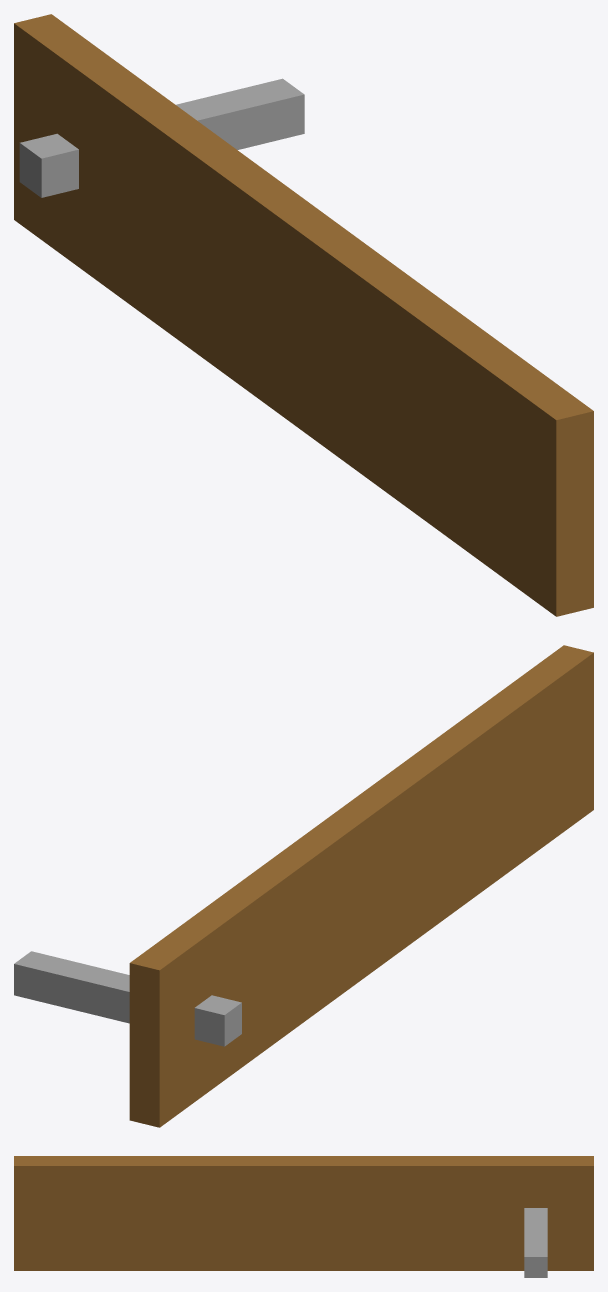
The model's file is board.obj.
3 views of the same model, one above another, from view 1: azimuth 30°, elevation 25°; view 2: azimuth 150°, elevation 25°; view 3: azimuth 270°, elevation 25° (orthographic). The views are drawn at different scales.
Size of the model in its own units: 7 by 5 by 25.
Materials: 1 (1 with a texture image).
